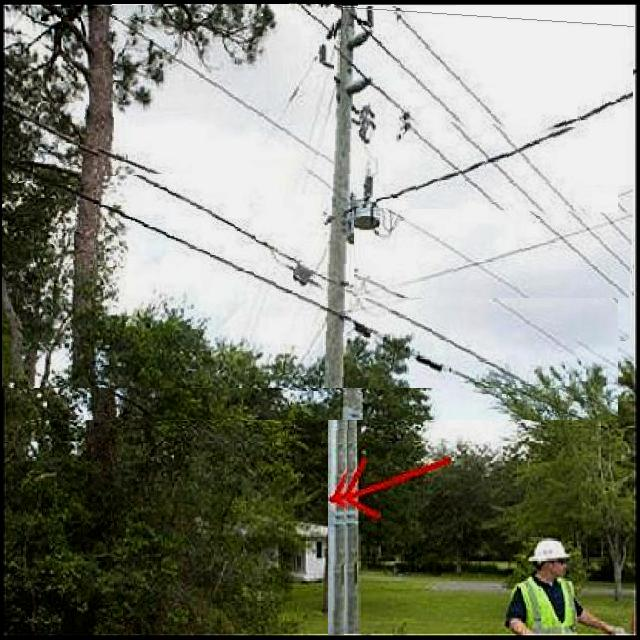pole: (328, 1, 353, 635)
transformer: (350, 177, 388, 232)
wire: (3, 102, 550, 388), (4, 159, 596, 420), (289, 5, 620, 298), (354, 8, 633, 259), (390, 5, 634, 231), (353, 186, 632, 345), (95, 5, 334, 169), (370, 69, 634, 215), (354, 212, 634, 298)
